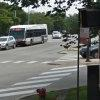Crosswalk: (17, 55, 71, 100)
